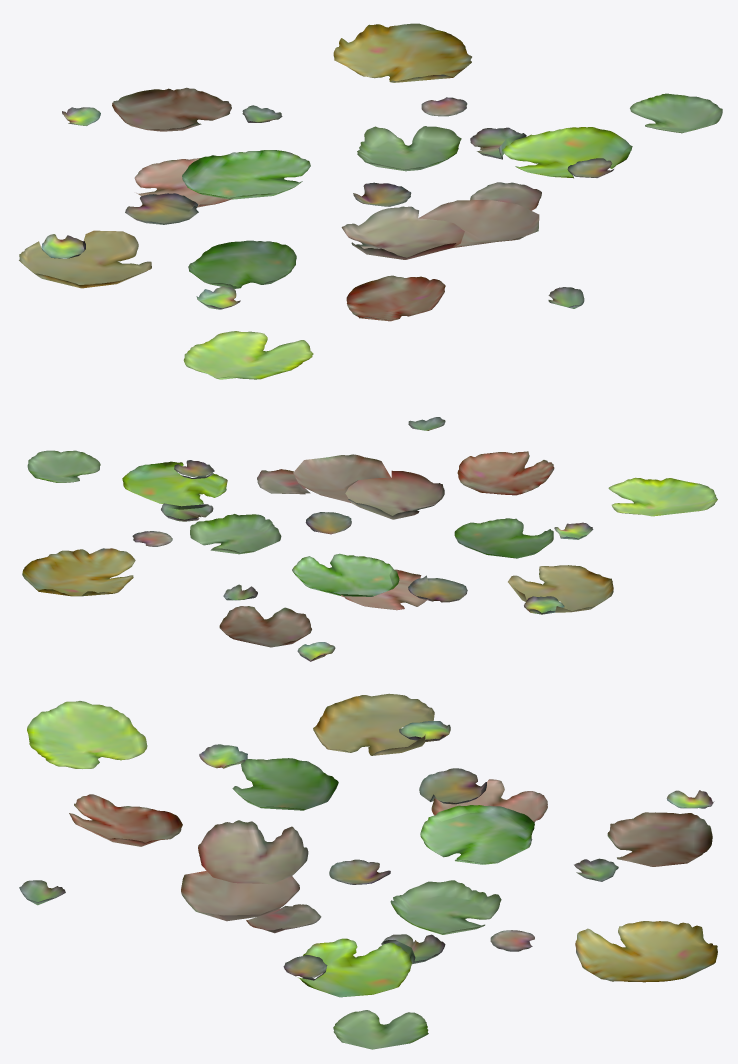
File: Model_WaterPlant_04.fbx
3 renders of one model, top to bottom at view 1: azimuth 30°, elevation 25°; view 2: azimuth 150°, elevation 25°; view 3: azimuth 270°, elevation 25°, orthographic. The views are drawn at different scales.
Visible parts, largest first — view 1: WaterPlant_04; view 2: WaterPlant_04; view 3: WaterPlant_04.
Boxes of the visible parts, box(x1,y1,x2,y2) form: WaterPlant_04: box(19, 23, 722, 379); WaterPlant_04: box(22, 417, 717, 661); WaterPlant_04: box(19, 693, 717, 1049).
Bounding box in the file's own units: 182 × 8.54 × 153.
